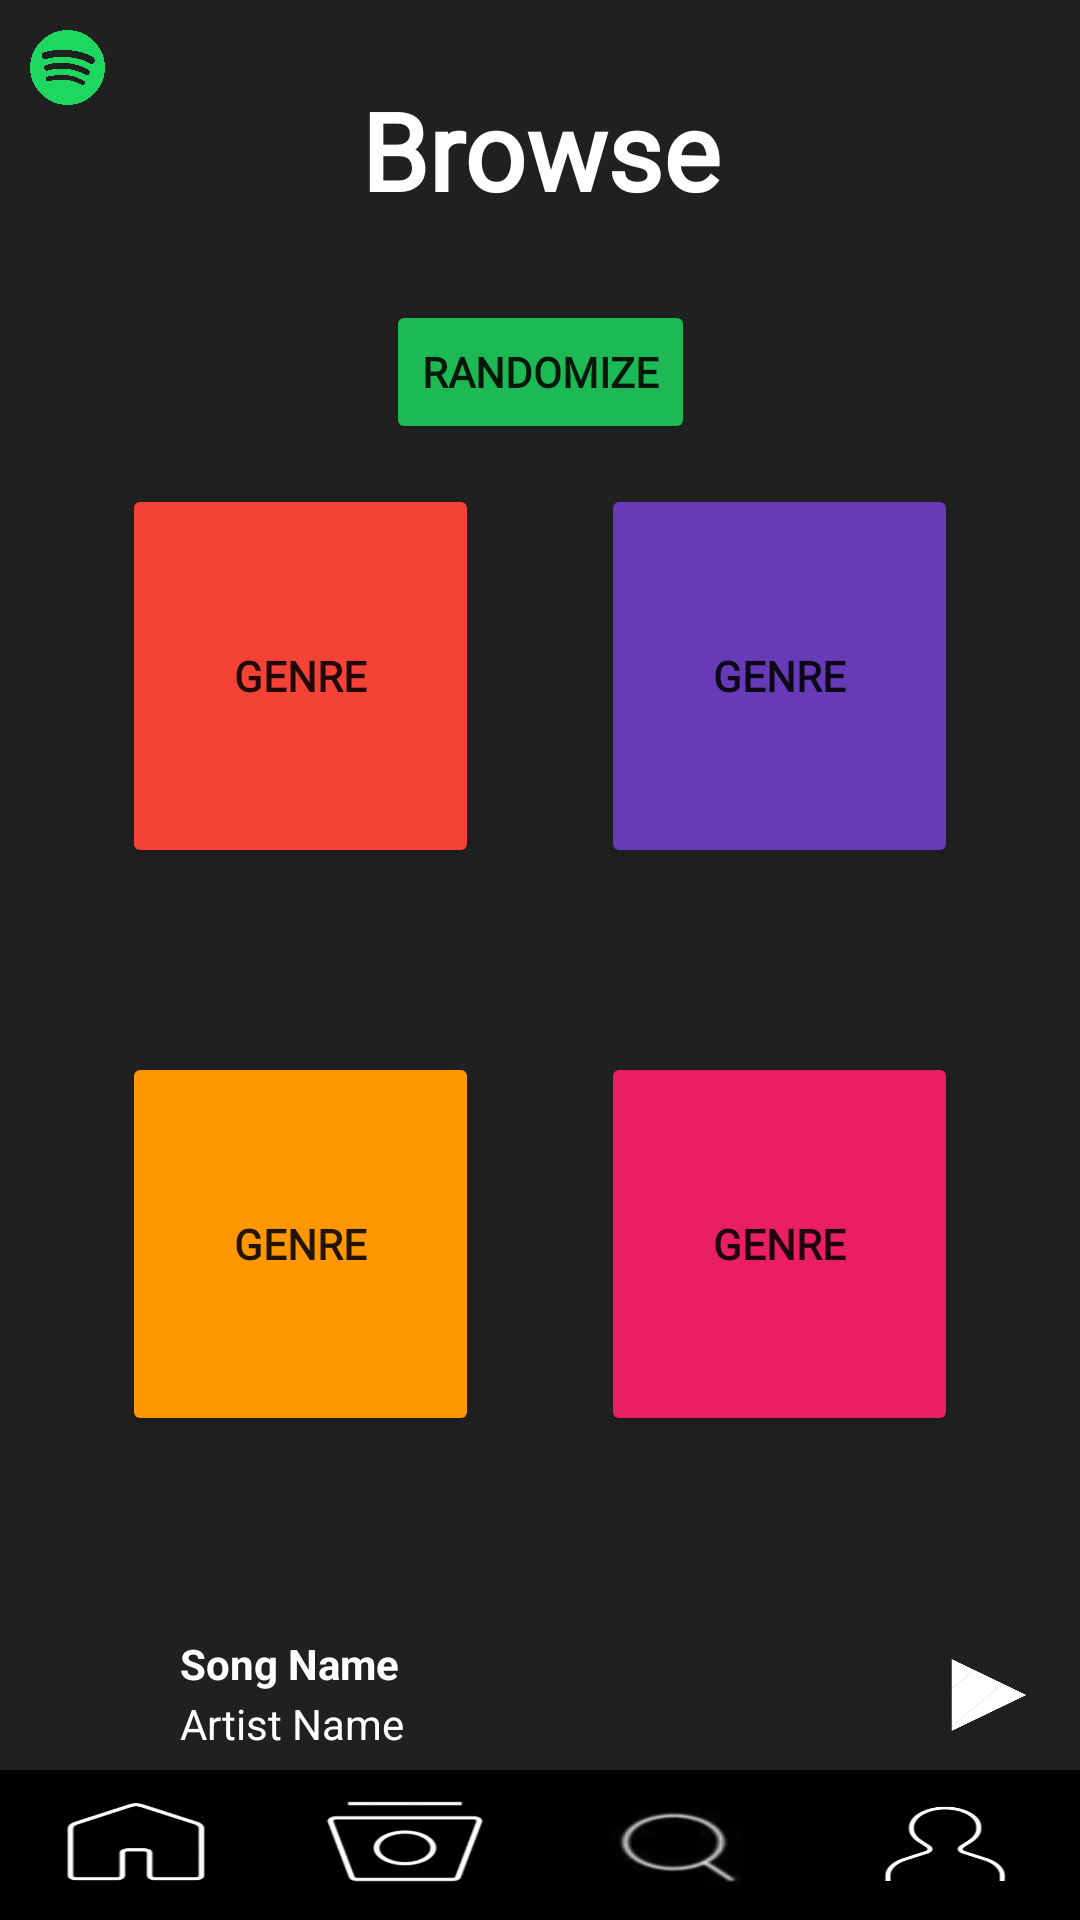

Icon bounding boxes for this 1080x1920 phone screenshot, format (x1, y1, x2, y2):
home: (67, 1803, 205, 1881)
search: (620, 1813, 736, 1882)
